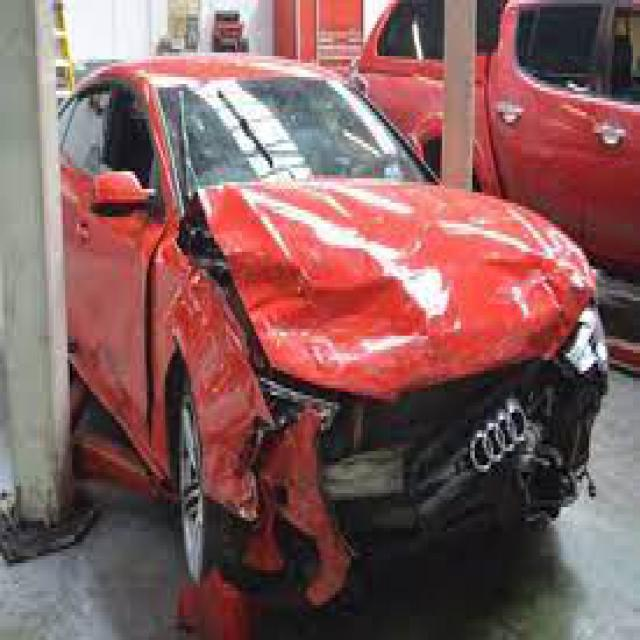bonnet-dent: (219, 178, 622, 364)
fender-dent: (149, 231, 256, 539)
front-bumper-dent: (219, 357, 624, 612)
